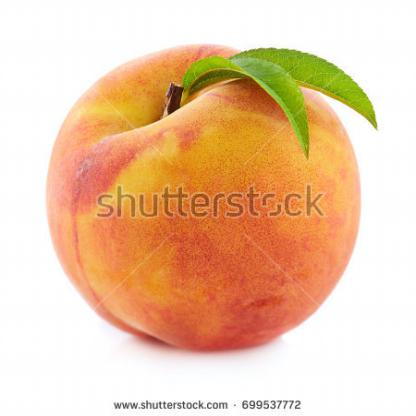Peach leaf: (180, 50, 312, 161), (242, 38, 381, 127)
